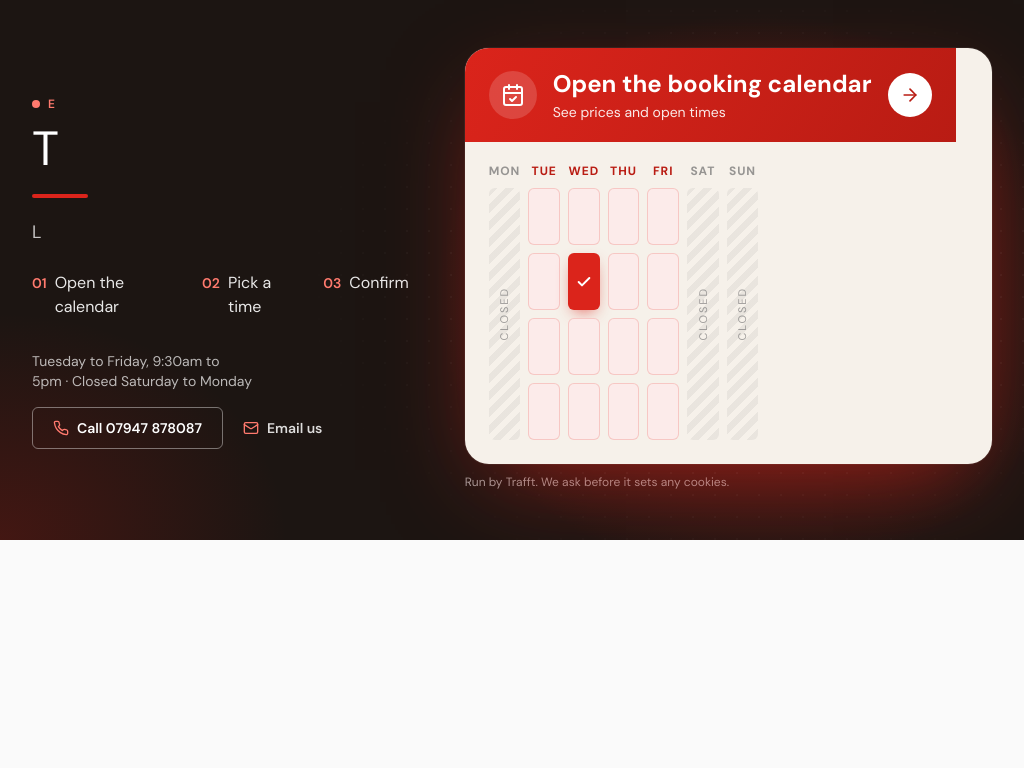
Scenario: BookingStage, the booking stop before consent › Not now changes nothing
Click the button "Open the booking calendar" at (960, 256), box x1=465 y1=48 x2=992 y2=464
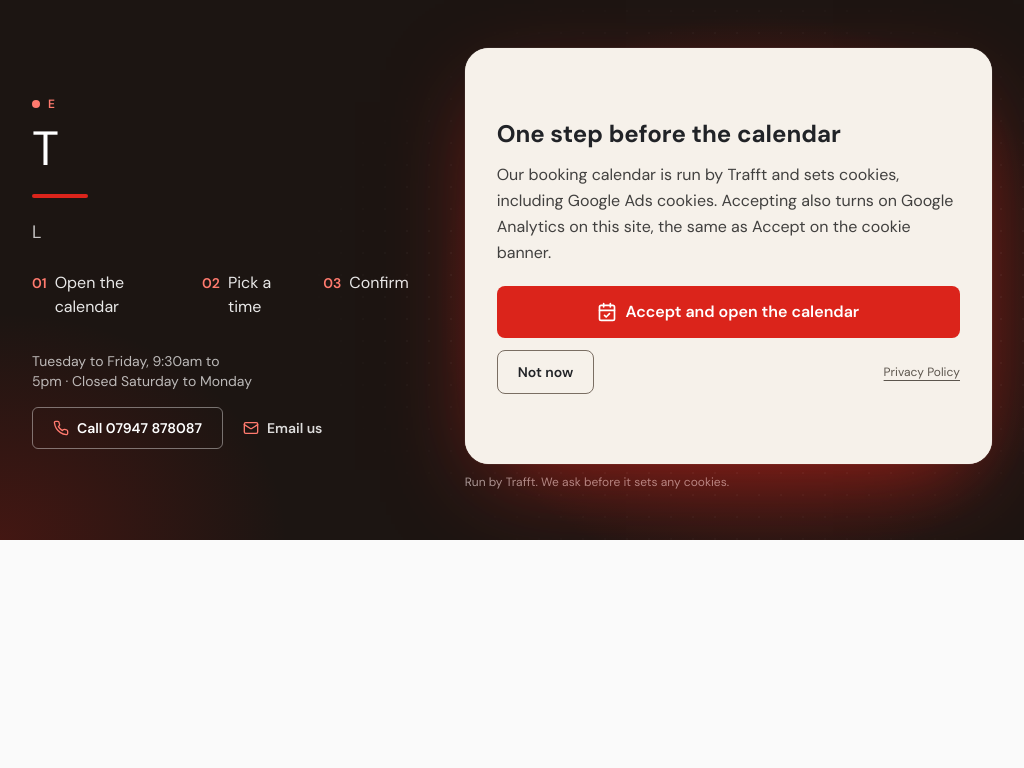
Click the button "Not now" at (545, 372), box x1=497 y1=350 x2=594 y2=394
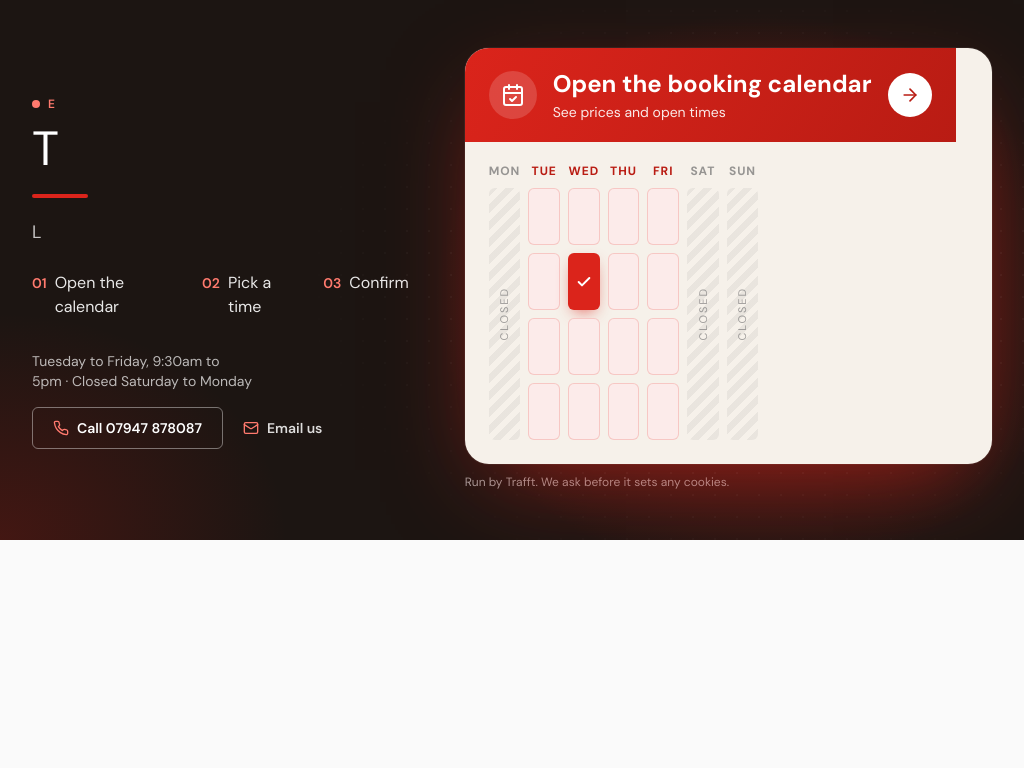
Expected: the button "Open the booking calendar" is shown, x1=465 y1=48 x2=992 y2=464
